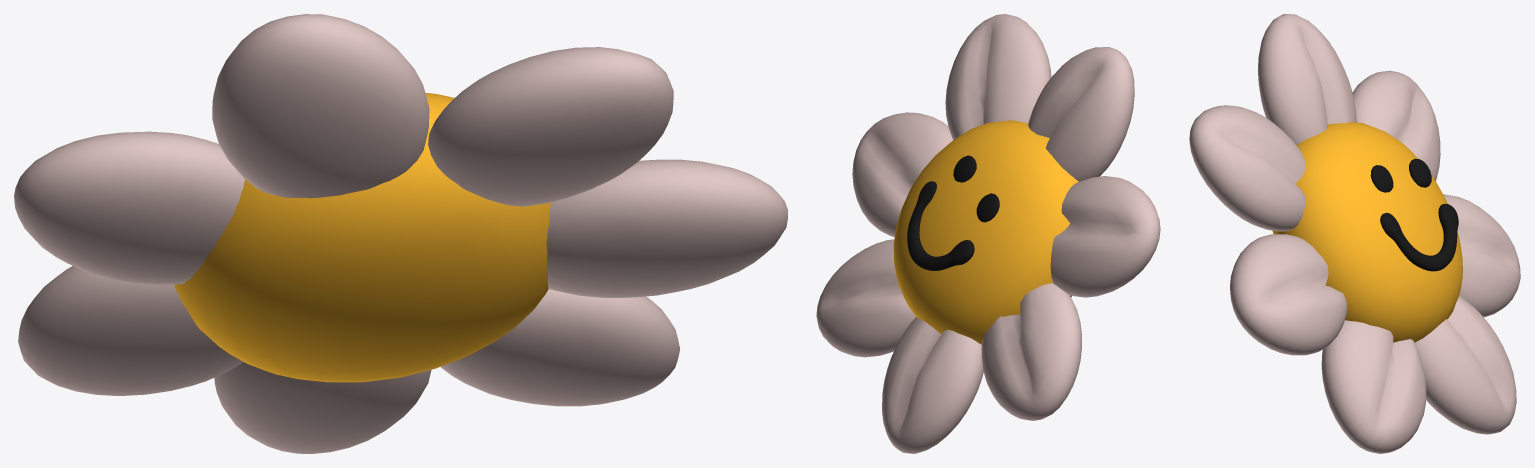
File: sunflower.glb
3 renders of one model, left to right at view 1: azimuth 30°, elevation 25°; view 2: azimuth 150°, elevation 25°; view 3: azimuth 270°, elevation 25°, orthographic. The views are drawn at different scales.
Parts seen in each view (by area): view 1: Cube; view 2: Cube; view 3: Cube.
Boxes of the visible parts, x1,y1,x2,y2 form: Cube: (14,14,787,453); Cube: (816,14,1160,453); Cube: (1189,14,1520,453).
Size of the model in its own units: 5.9 by 5.34 by 4.43.
